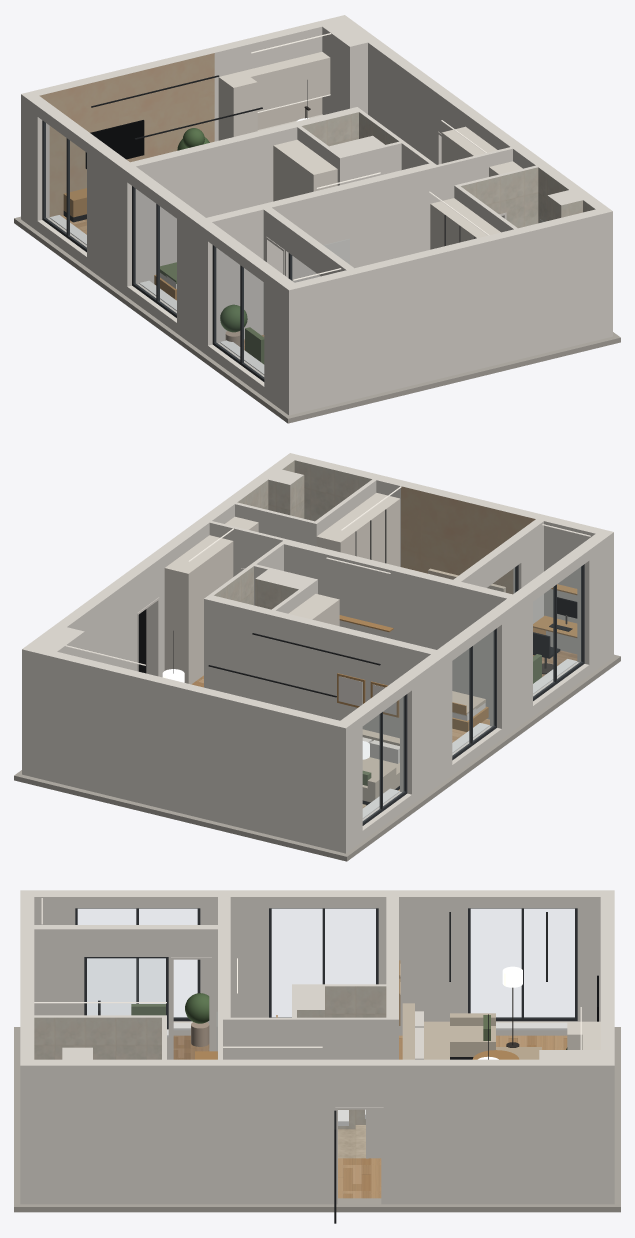
Rendered from dala.glb.
3 renders of one model, top to bottom at view 1: azimuth 30°, elevation 25°; view 2: azimuth 150°, elevation 25°; view 3: azimuth 270°, elevation 25°, orthographic. The views are drawn at different scales.
Size of the model in its own units: 9.15 by 3.12 by 11.9.
Materials: 30 (5 with a texture image).
